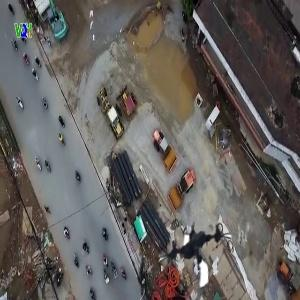drone: (154, 217, 238, 300)
